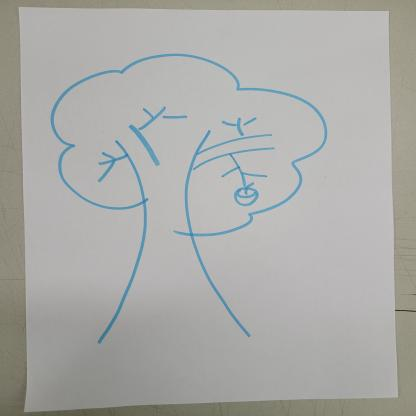apple: (230, 184, 260, 208)
branch_line: (94, 98, 276, 190)
crown_cloud: (48, 46, 330, 236)
trunk_reflex: (118, 235, 233, 310)
